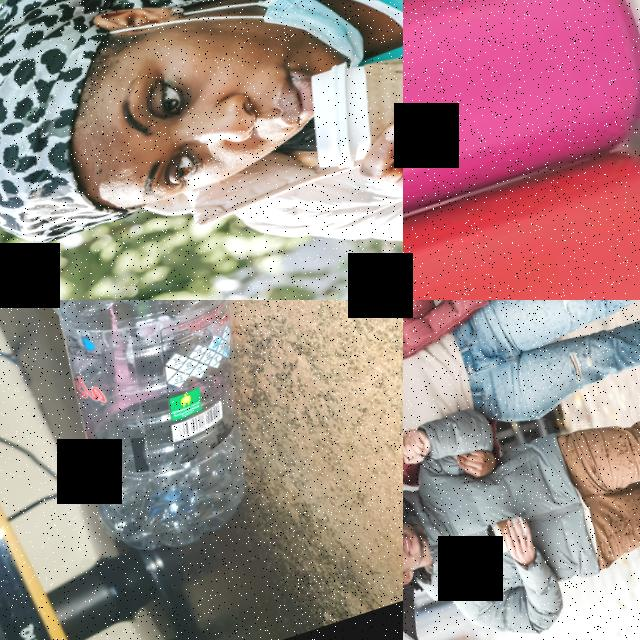bottle: (0, 300, 323, 569)
can: (403, 0, 640, 280), (403, 128, 640, 300)
cup: (287, 7, 403, 181), (483, 509, 533, 558)
